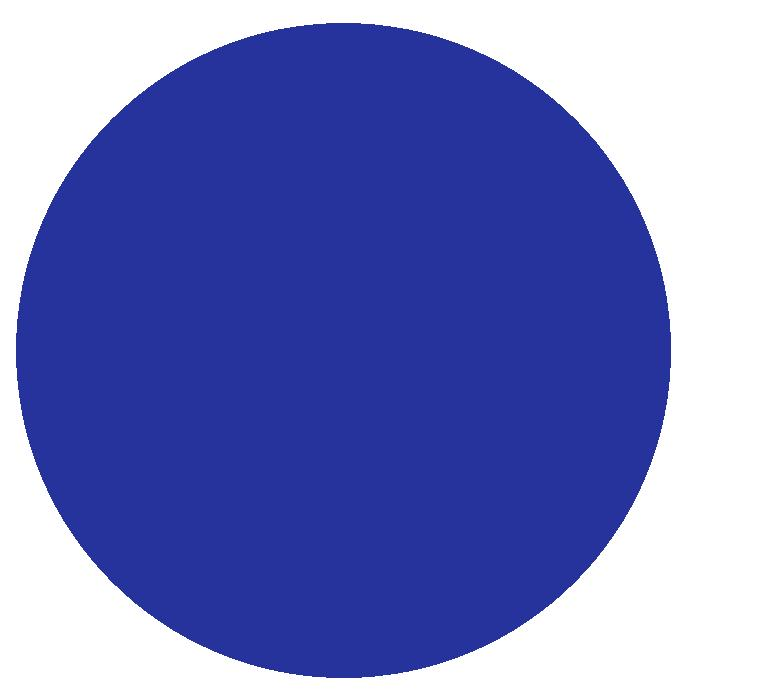blue_circle: (7, 17, 671, 683)
